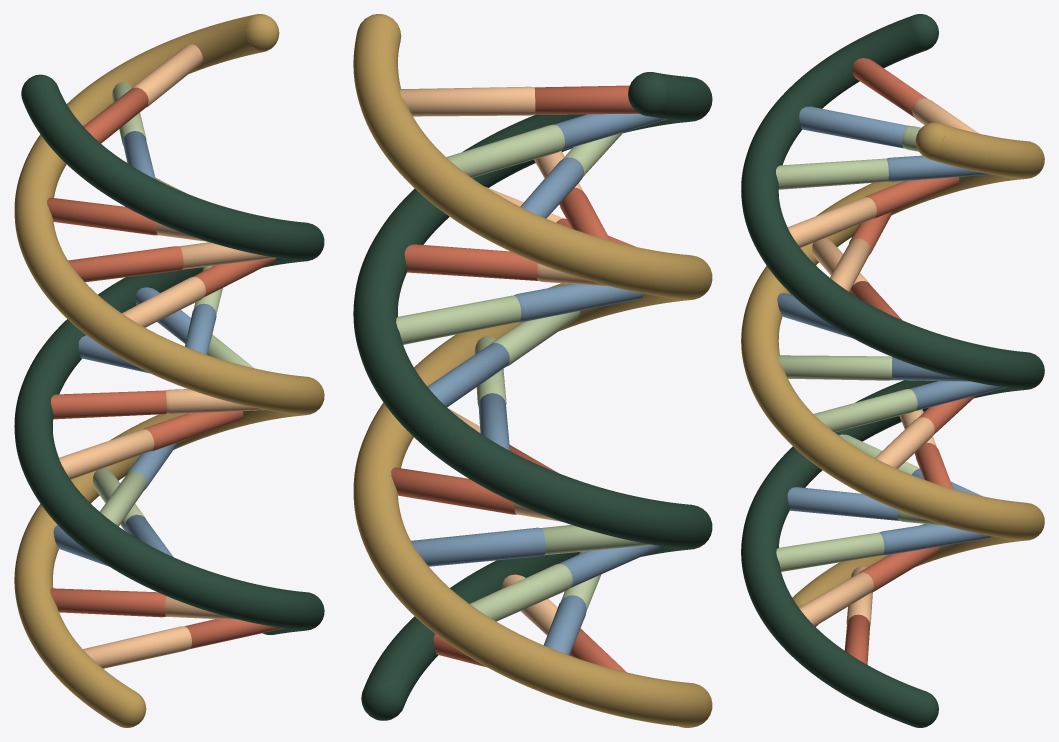
The model's file is dna-double-helix.glb.
The picture shows the model from 3 angles, left to right: view 1: azimuth 30°, elevation 25°; view 2: azimuth 150°, elevation 25°; view 3: azimuth 270°, elevation 25°; orthographic projection. The views are drawn at different scales.
Visible parts, largest first — view 1: Backbone_2, Backbone_1, Base_Adenine, Base_Thymine, Base_Cytosine, Base_Guanine; view 2: Backbone_2, Backbone_1, Base_Cytosine, Base_Guanine, Base_Adenine, Base_Thymine; view 3: Backbone_1, Backbone_2, Base_Cytosine, Base_Guanine, Base_Adenine, Base_Thymine.
Boxes of the visible parts, box(x1,y1,x2,y2) form: Backbone_2: box(14, 14, 324, 727); Backbone_1: box(14, 74, 324, 634); Base_Adenine: box(47, 87, 283, 649); Base_Thymine: box(59, 44, 276, 668); Base_Cytosine: box(53, 131, 216, 566); Base_Guanine: box(93, 82, 253, 530); Backbone_2: box(353, 14, 712, 727); Backbone_1: box(353, 72, 712, 720); Base_Cytosine: box(411, 114, 666, 655); Base_Guanine: box(396, 124, 652, 621); Base_Adenine: box(391, 85, 639, 672); Base_Thymine: box(400, 86, 608, 635); Backbone_1: box(741, 14, 1044, 727); Backbone_2: box(741, 122, 1044, 626); Base_Cytosine: box(777, 106, 1005, 555); Base_Guanine: box(776, 125, 943, 571); Base_Adenine: box(844, 58, 976, 664); Base_Thymine: box(788, 98, 978, 626).
Size of the model in its own units: 0.137 by 0.2988 by 0.137.
